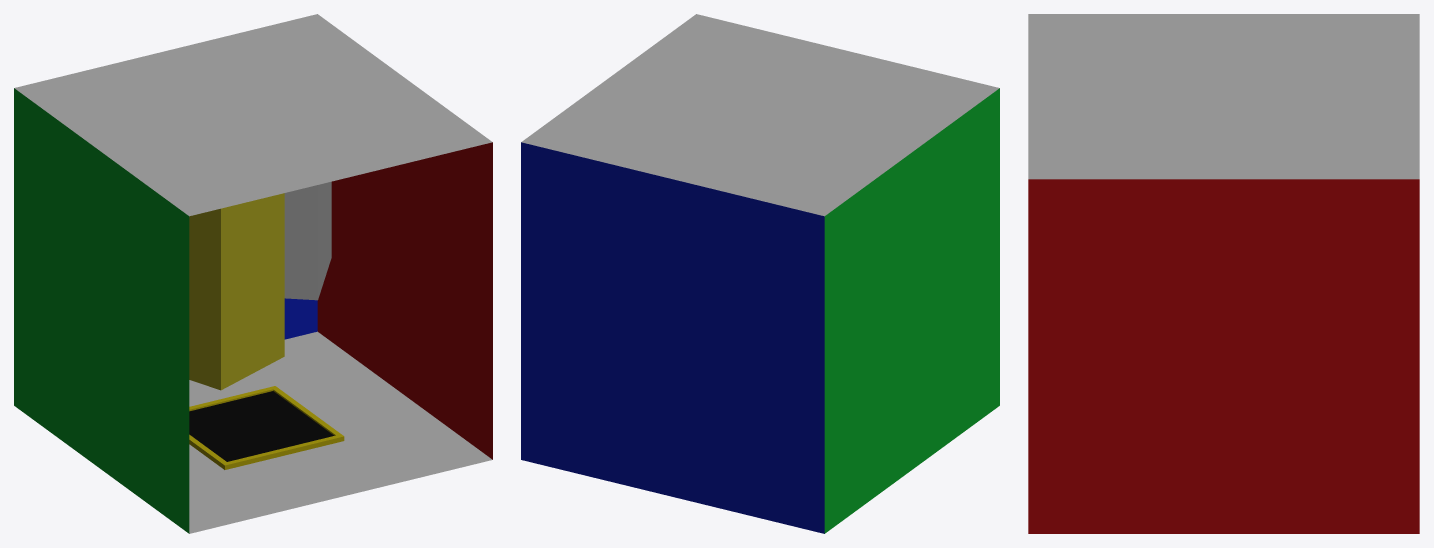
The model's file is tudo4.obj.
3 renders of one model, left to right at view 1: azimuth 30°, elevation 25°; view 2: azimuth 150°, elevation 25°; view 3: azimuth 270°, elevation 25°, orthographic. The views are drawn at different scales.
Visible parts, largest first — view 1: right_wall_Plane.002_wall3_right_wall_right_wall_Plane.002_wall, floor_Plane_Floor_floor_floor_Plane_Floor_floor_floor, left_wall_Plane.001_wall1_left_wall_left_wall_Plane.001_wall1_l, teto_Plane.006_Teto_teto_teto_Plane.006_Teto_teto_teto, Cube.001_Cube.001_right_cube.001, light_Plane.004_Plane_ligth_light_Plane.004_Plane_ligth_ligth, Cube_Cube_left_cube.001, None_Cube.001_Material.001, back_wall_Plane.003_wall2_back_wall.001_back_wall_Plane.003_wal; view 2: back_wall_Plane.003_wall2_back_wall.001_back_wall_Plane.003_wal, right_wall_Plane.002_wall3_right_wall_right_wall_Plane.002_wall, floor_Plane_Floor_floor_floor_Plane_Floor_floor_floor; view 3: left_wall_Plane.001_wall1_left_wall_left_wall_Plane.001_wall1_l, floor_Plane_Floor_floor_floor_Plane_Floor_floor_floor.
Boxes of the visible parts, <box> form: right_wall_Plane.002_wall3_right_wall_right_wall_Plane.002_wall: <box>14,88,189,533</box>; floor_Plane_Floor_floor_floor_Plane_Floor_floor_floor: <box>14,14,492,216</box>; left_wall_Plane.001_wall1_left_wall_left_wall_Plane.001_wall1_l: <box>317,142,492,459</box>; teto_Plane.006_Teto_teto_teto_Plane.006_Teto_teto_teto: <box>189,331,492,533</box>; Cube.001_Cube.001_right_cube.001: <box>189,193,284,390</box>; light_Plane.004_Plane_ligth_light_Plane.004_Plane_ligth_ligth: <box>189,391,333,461</box>; Cube_Cube_left_cube.001: <box>284,181,331,300</box>; None_Cube.001_Material.001: <box>189,386,344,469</box>; back_wall_Plane.003_wall2_back_wall.001_back_wall_Plane.003_wal: <box>284,298,317,339</box>; back_wall_Plane.003_wall2_back_wall.001_back_wall_Plane.003_wal: <box>521,142,824,533</box>; right_wall_Plane.002_wall3_right_wall_right_wall_Plane.002_wall: <box>824,88,999,533</box>; floor_Plane_Floor_floor_floor_Plane_Floor_floor_floor: <box>521,14,999,216</box>; left_wall_Plane.001_wall1_left_wall_left_wall_Plane.001_wall1_l: <box>1028,179,1419,533</box>; floor_Plane_Floor_floor_floor_Plane_Floor_floor_floor: <box>1028,14,1419,179</box>.
Size of the model in its own units: 2 by 2 by 2.
